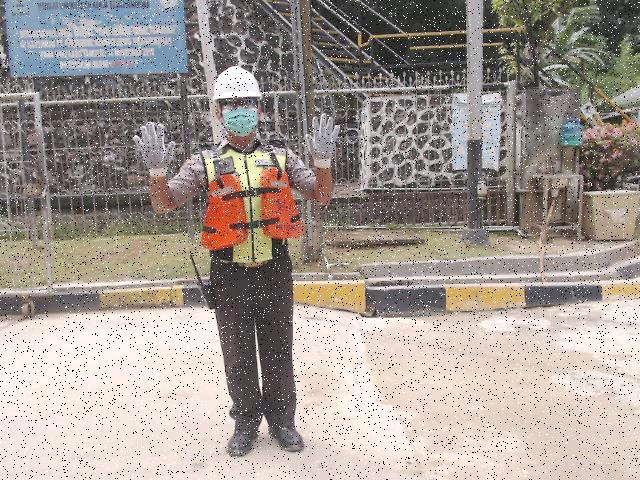glasses: (219, 97, 260, 110)
gloves: (132, 121, 177, 178), (303, 113, 342, 168)
helmet: (211, 65, 263, 99)
mask: (221, 109, 258, 136)
safety-shoes: (223, 418, 261, 461), (269, 422, 305, 455)
vest: (199, 166, 304, 251)
